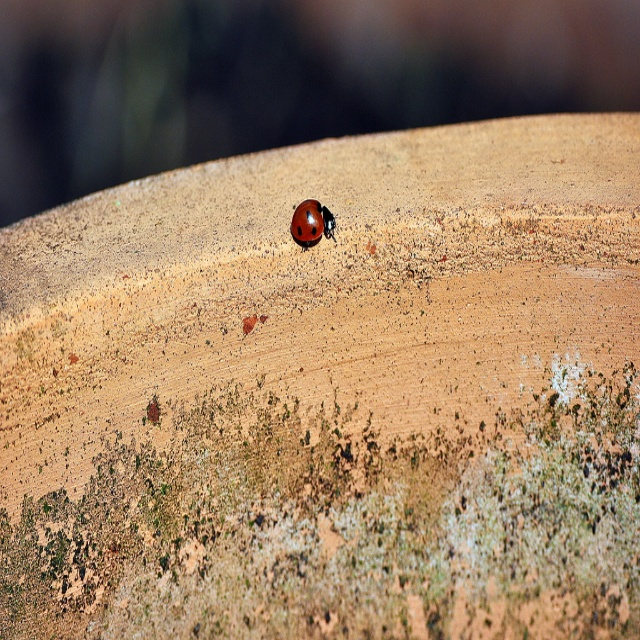Ladybug: (292, 192, 335, 251)
